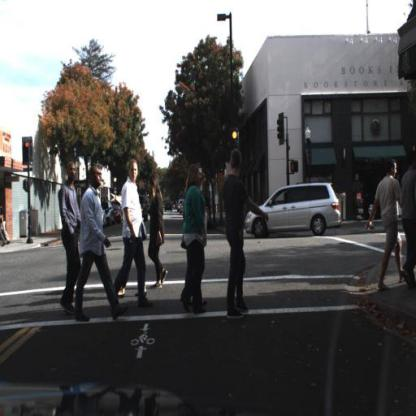car: (244, 181, 343, 239), (206, 202, 214, 228), (143, 198, 147, 220)
pedestrian: (114, 160, 155, 313), (369, 158, 405, 291), (183, 163, 208, 318), (225, 149, 247, 315), (146, 168, 171, 300), (83, 167, 104, 324), (125, 160, 143, 312), (146, 170, 165, 289), (65, 161, 79, 316), (401, 151, 416, 293)
trafficLight-Red: (23, 136, 34, 170), (231, 129, 240, 151)
